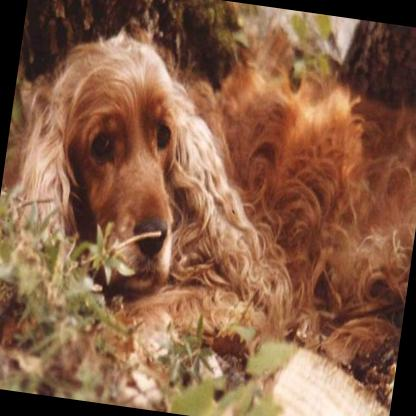cocker_spaniel: (0, 17, 416, 386)
